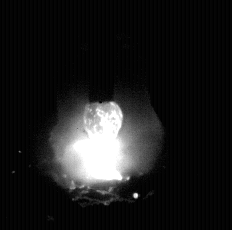arame: (89, 0, 114, 104)
poca: (47, 0, 165, 230)
